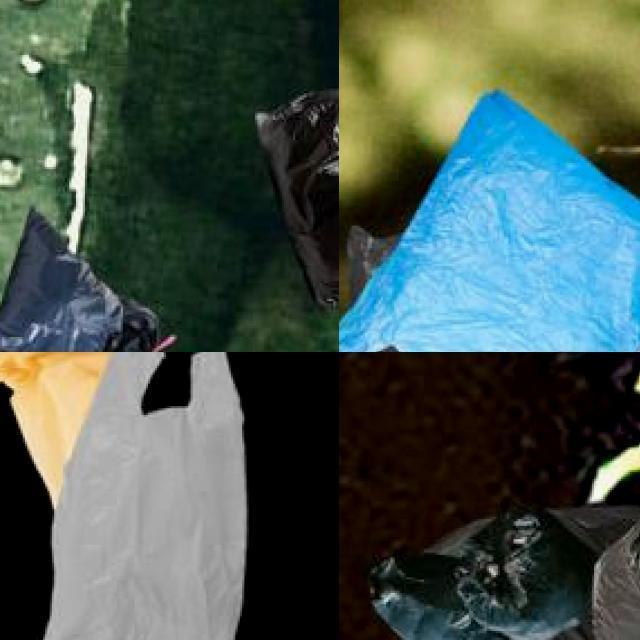waste: (339, 88, 640, 352), (55, 352, 239, 640), (444, 505, 640, 640), (241, 90, 339, 302), (0, 209, 132, 352), (595, 432, 640, 640)
